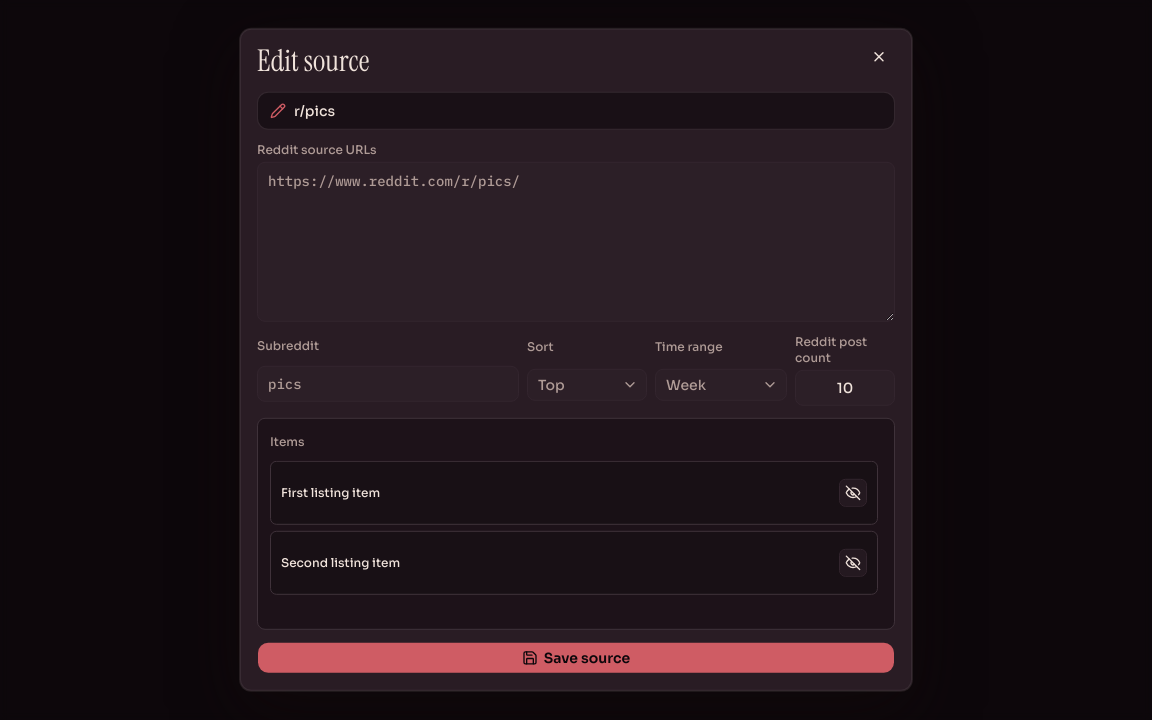
it: EditSourceDialog › keeps focus in the Reddit source URLs textarea while typing
Click the text box labelled "Reddit source URLs": (576, 242) [257, 162, 895, 322]
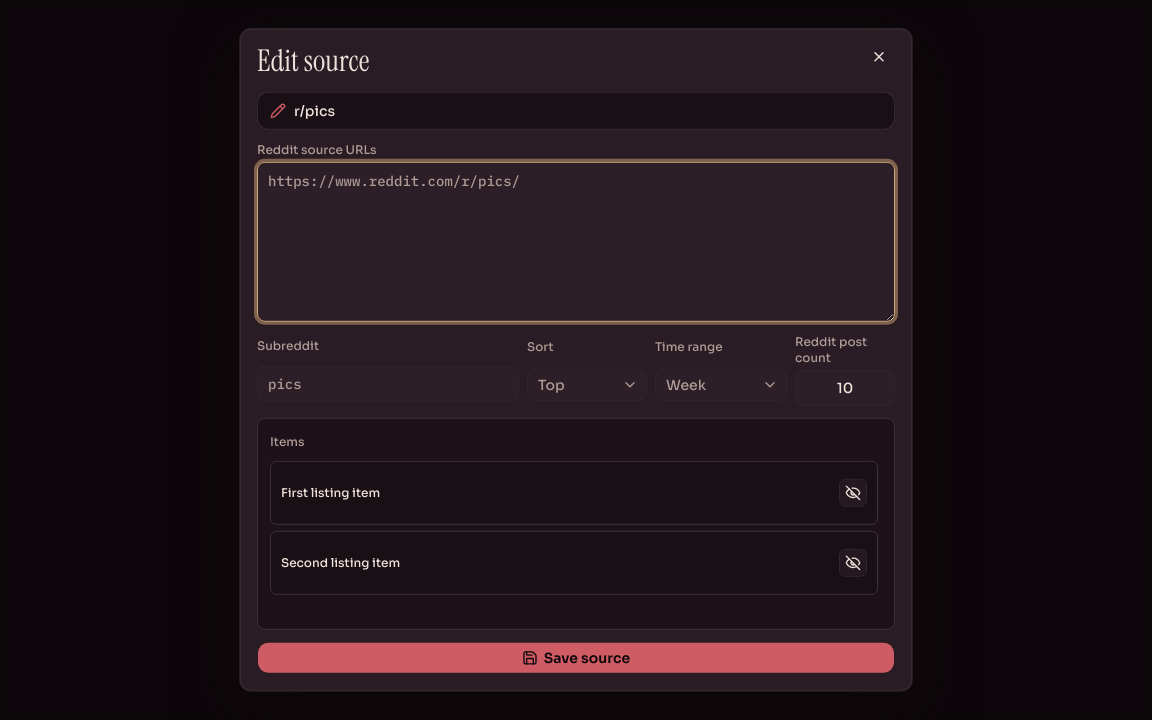
Type keys "top"
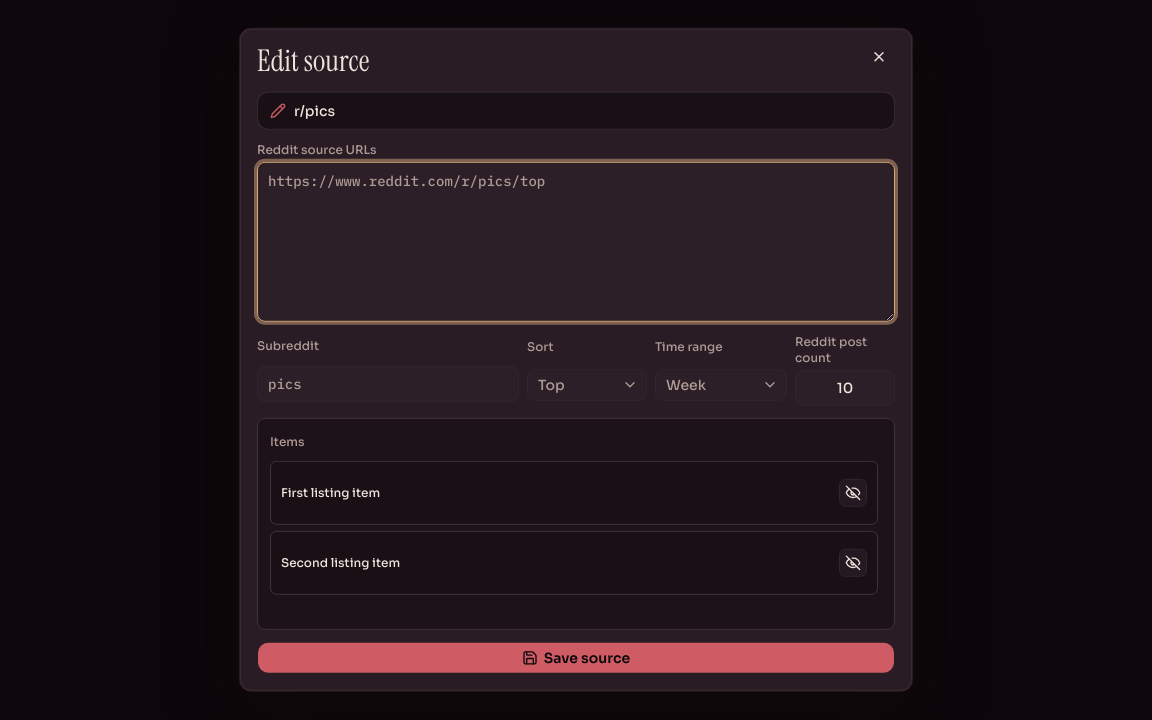
Result: the text box labelled "Reddit source URLs" holds "https://www.reddit.com/r/pics/top" at [257, 162, 895, 322]
